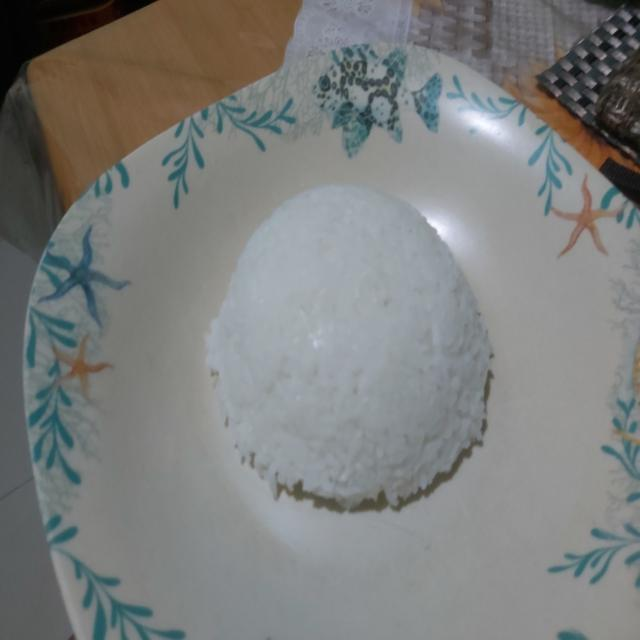Chicken -Chicken Inasal-: (203, 180, 495, 509)
